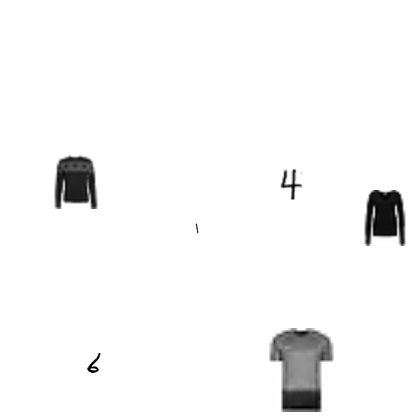1: (190, 221, 204, 235)
4: (269, 162, 311, 204)
6: (79, 351, 107, 379)
Pullover: (47, 153, 103, 209), (357, 190, 413, 246)
T-shirt/top: (258, 328, 342, 412)
